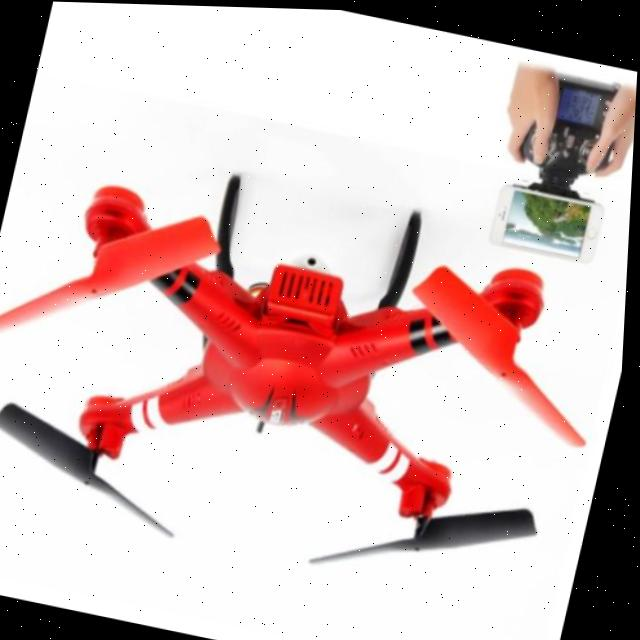drones: (0, 122, 635, 633)
